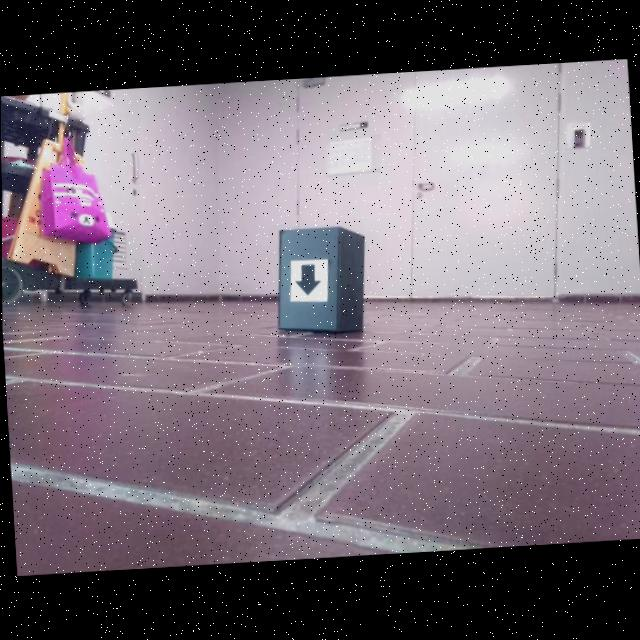DOWN: (293, 264, 323, 297)
